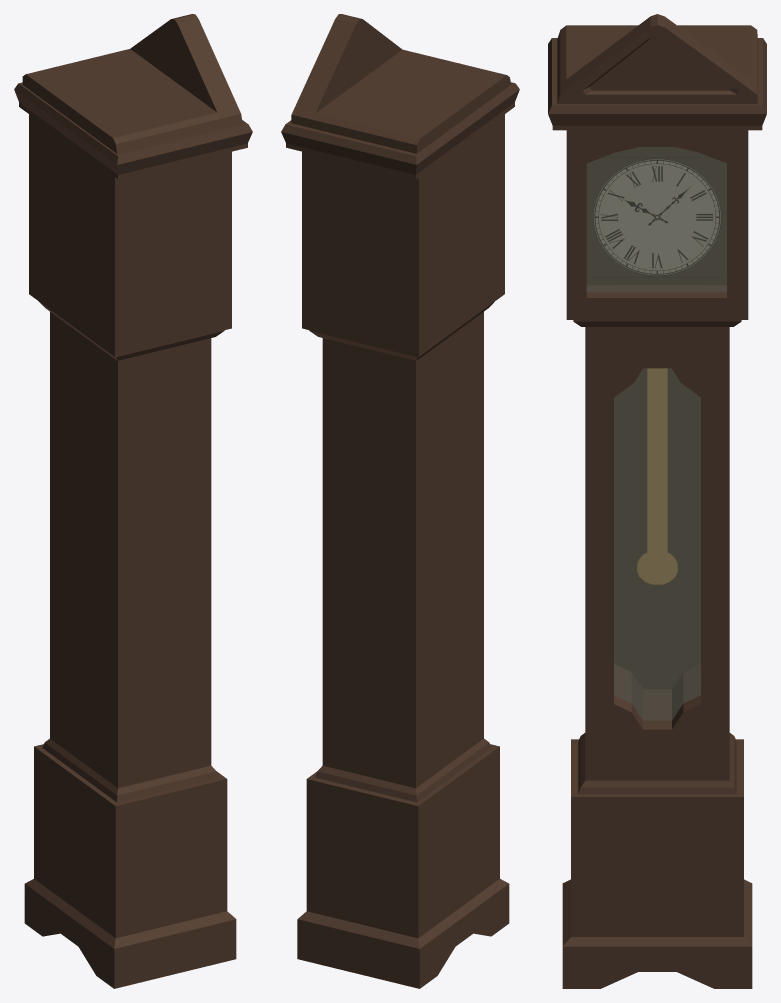
File: S_PendulumClock.fbx
The picture shows the model from 3 angles, left to right: view 1: azimuth 30°, elevation 25°; view 2: azimuth 150°, elevation 25°; view 3: azimuth 270°, elevation 25°; orthographic projection. The views are drawn at different scales.
Visible parts, largest first — view 1: S_PendulumClock; view 2: S_PendulumClock; view 3: S_PendulumClock.
Part boxes in pixels (box(x1,y1,x2,y2)): S_PendulumClock: box(14, 14, 252, 988); S_PendulumClock: box(281, 14, 519, 988); S_PendulumClock: box(548, 14, 766, 988).
Size of the model in its own units: 26.4 by 170 by 34.85.
